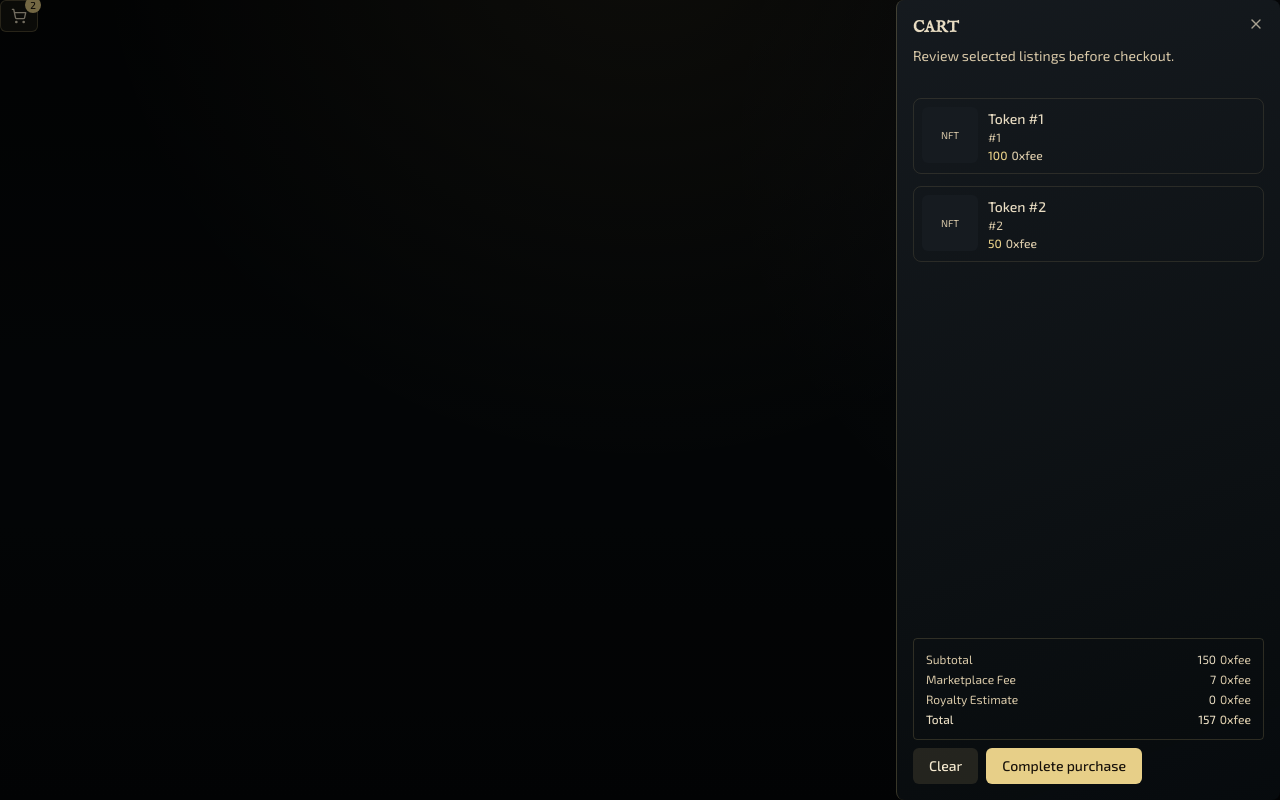
Test: cart sidebar › retry_checkout_succeeds_after_removing_stale_rows
Click the button "Complete purchase" at (1064, 766), box [986, 748, 1142, 784]
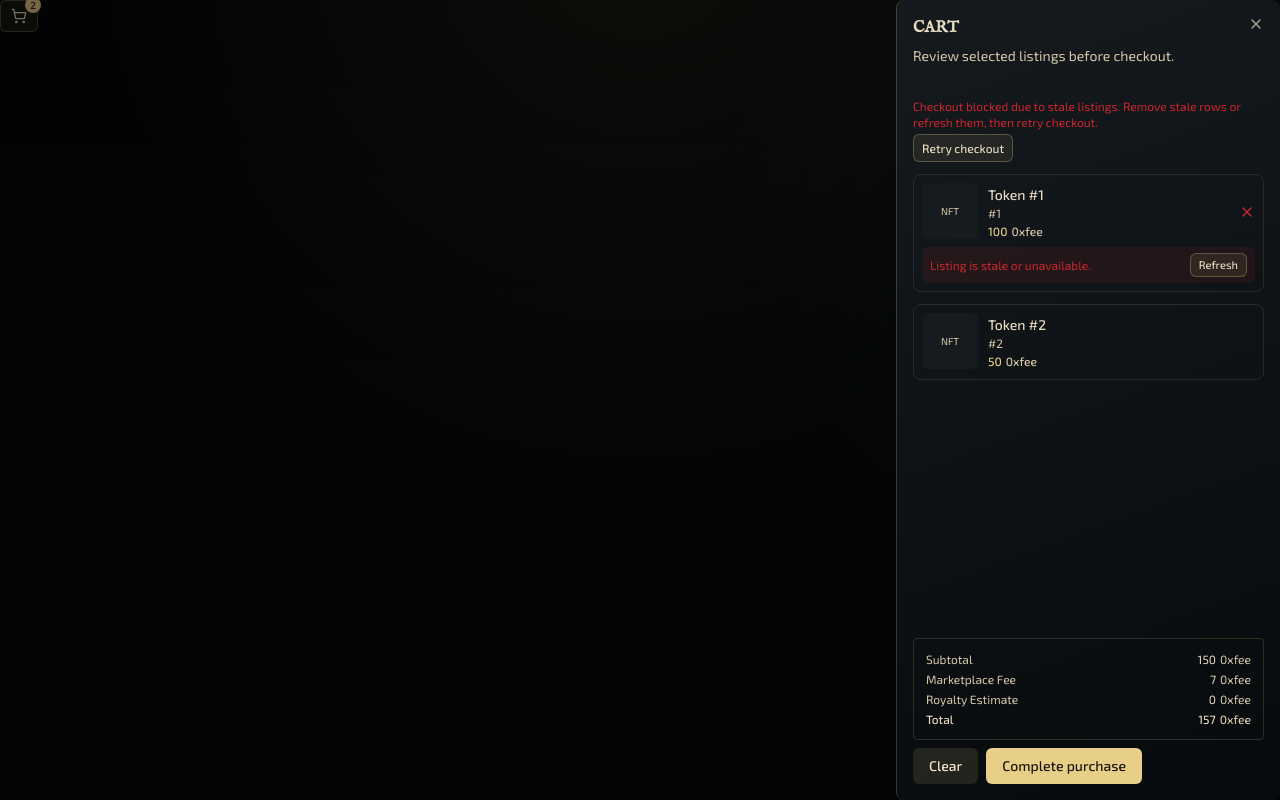
Expected: the text "Checkout blocked due to stale listings" is shown, [913, 99, 1241, 129]
Click the button named "Remove item" at (1247, 212), box [1239, 183, 1255, 241]
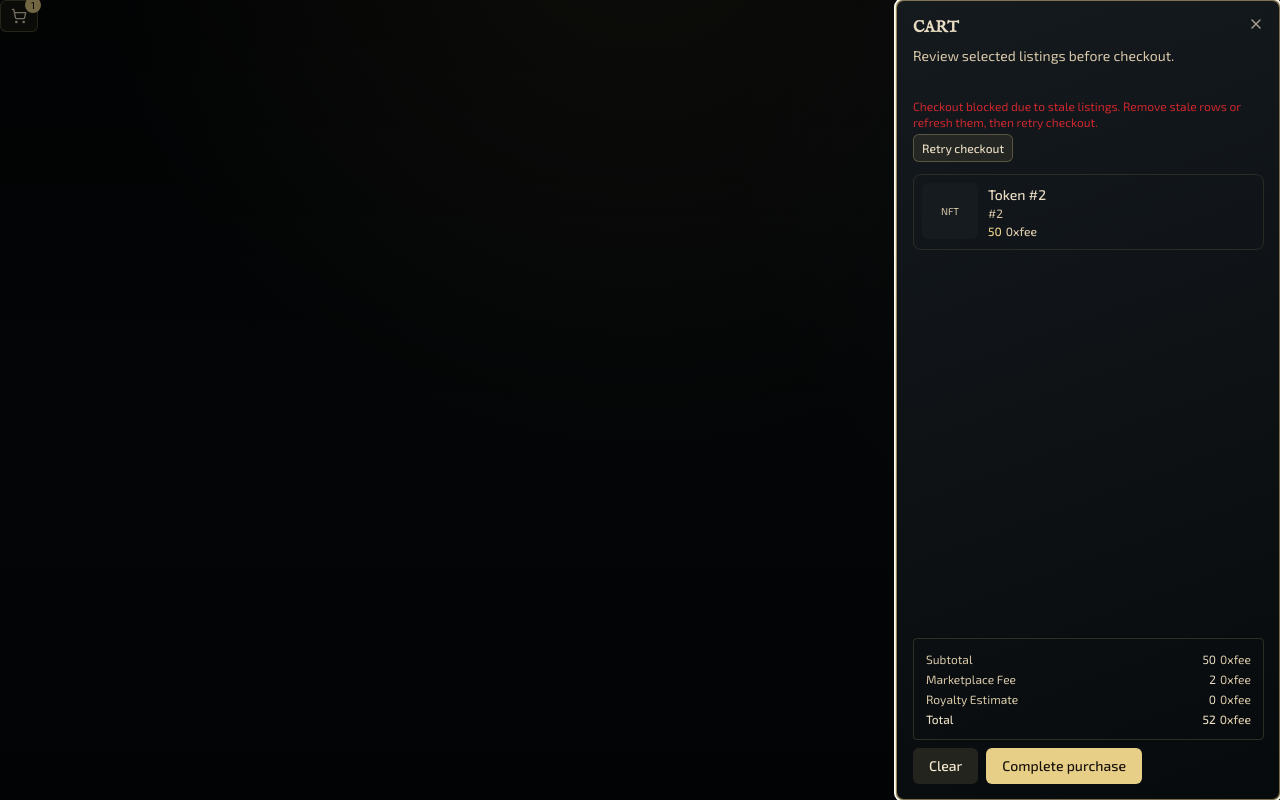
Expected: the link "Token #1" is gone
Click the button "Retry checkout" at (963, 148), box [913, 134, 1013, 162]
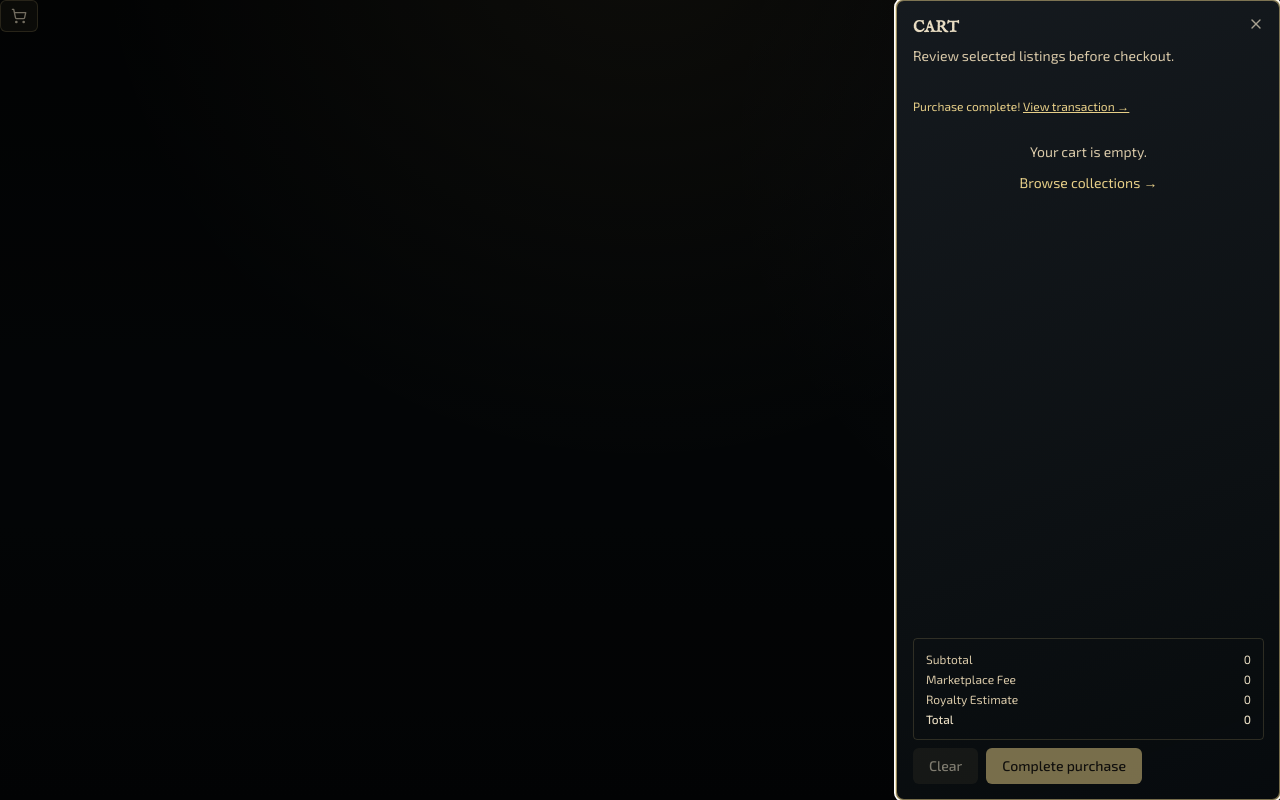
Expected: the text "Purchase complete! View transaction →" is shown, [913, 99, 1129, 113]
